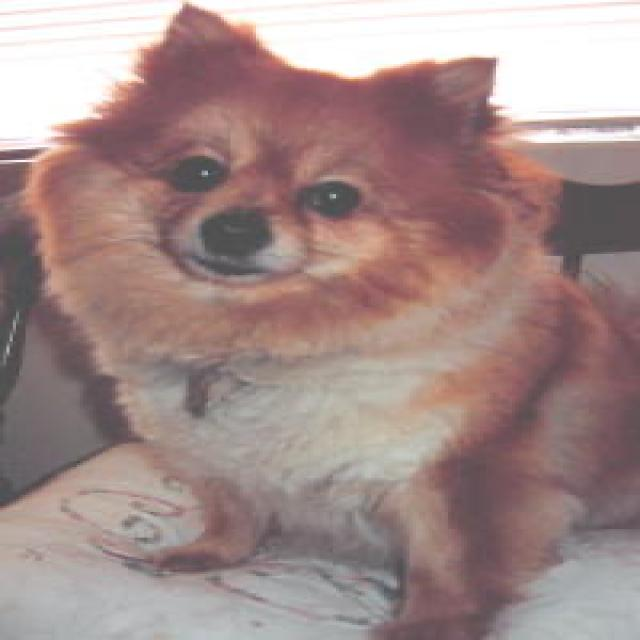dog: (102, 4, 496, 297)
